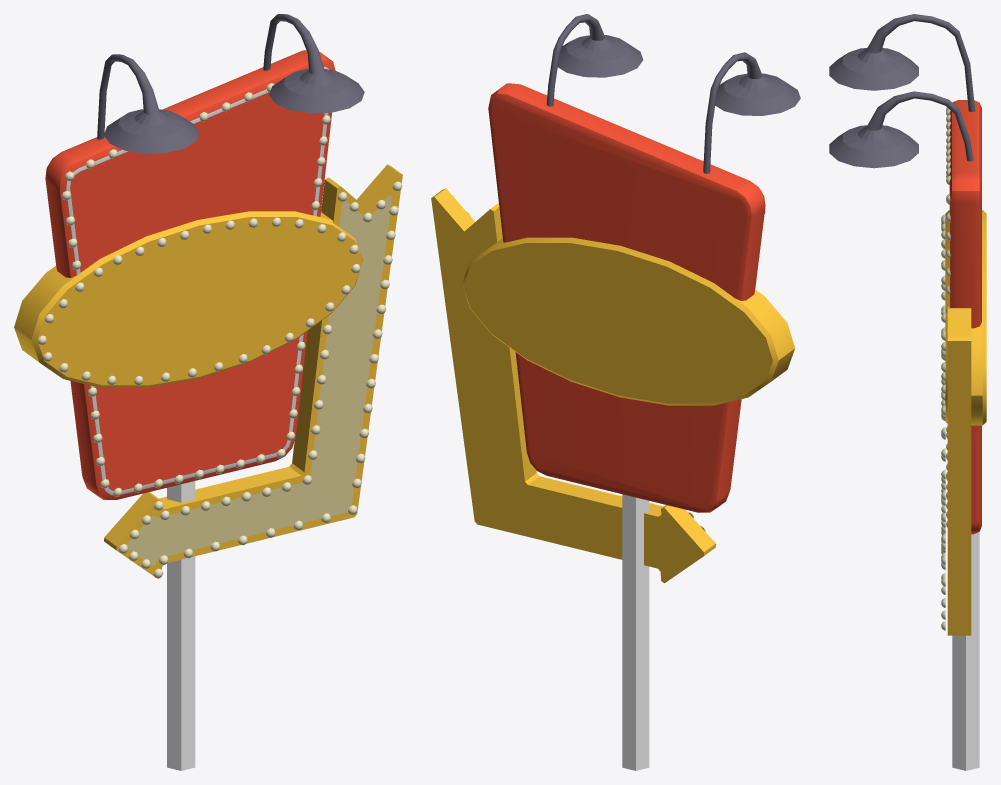
Rendered from Ad_Board_08.fbx.
3 renders of one model, left to right at view 1: azimuth 30°, elevation 25°; view 2: azimuth 150°, elevation 25°; view 3: azimuth 270°, elevation 25°, orthographic. The views are drawn at different scales.
Visible parts, largest first — view 1: Board_And_Piller_M_08, Pole__08, Light_03, Light_01; view 2: Board_And_Piller_M_08, Pole__08, Light_03, Light_01; view 3: Board_And_Piller_M_08, Pole__08, Light_03, Light_01.
Part boxes in pixels (x1=…): Board_And_Piller_M_08: x1=14, y1=50, x2=402, y2=578; Pole__08: x1=167, y1=481, x2=195, y2=770; Light_03: x1=97, y1=54, x2=199, y2=153; Light_01: x1=263, y1=14, x2=364, y2=113; Board_And_Piller_M_08: x1=431, y1=83, x2=795, y2=583; Pole__08: x1=622, y1=494, x2=649, y2=770; Light_03: x1=703, y1=52, x2=800, y2=173; Light_01: x1=546, y1=14, x2=643, y2=106; Board_And_Piller_M_08: x1=941, y1=100, x2=986, y2=635; Pole__08: x1=952, y1=532, x2=979, y2=770; Light_03: x1=829, y1=14, x2=975, y2=111; Light_01: x1=829, y1=91, x2=973, y2=168.
Size of the model in its own units: 4.88 by 9.36 by 1.87.
1 material, 1 textured.
